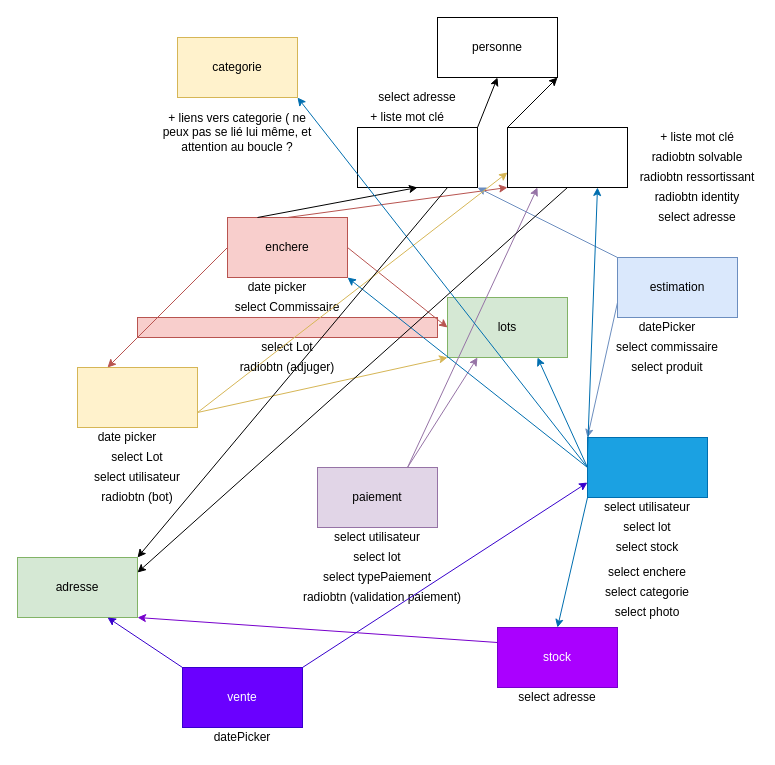
The diagram is 775 pixels wide and 765 high, and some of its shapes have lost their labels. Here are the shapes that lost their labels. From the top down, the centre of each, then its label:
point 417,157: commissaire
point 567,157: utilisateur
point 287,327: select Utilisateur ou ordre achat (pas les deux)
point 137,397: ordre achat
point 647,467: produit
